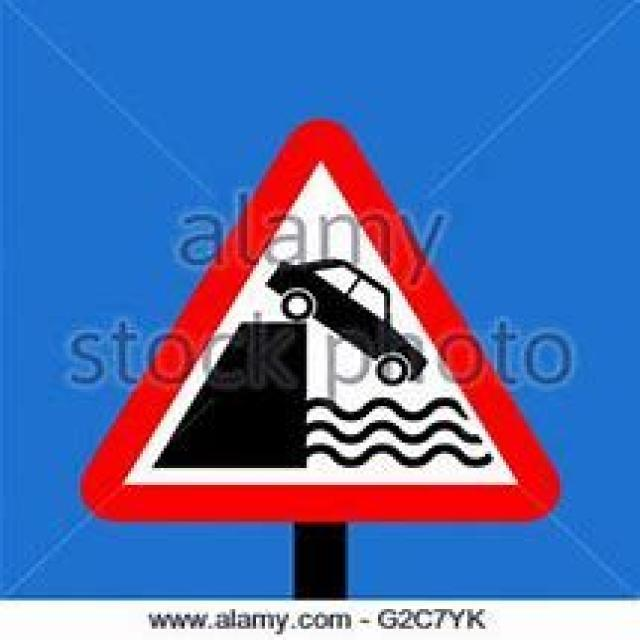quay side or river bank: (93, 123, 563, 522)
